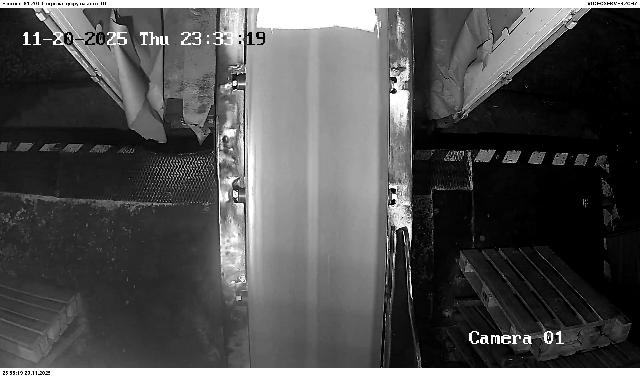bag: (256, 8, 379, 33)
